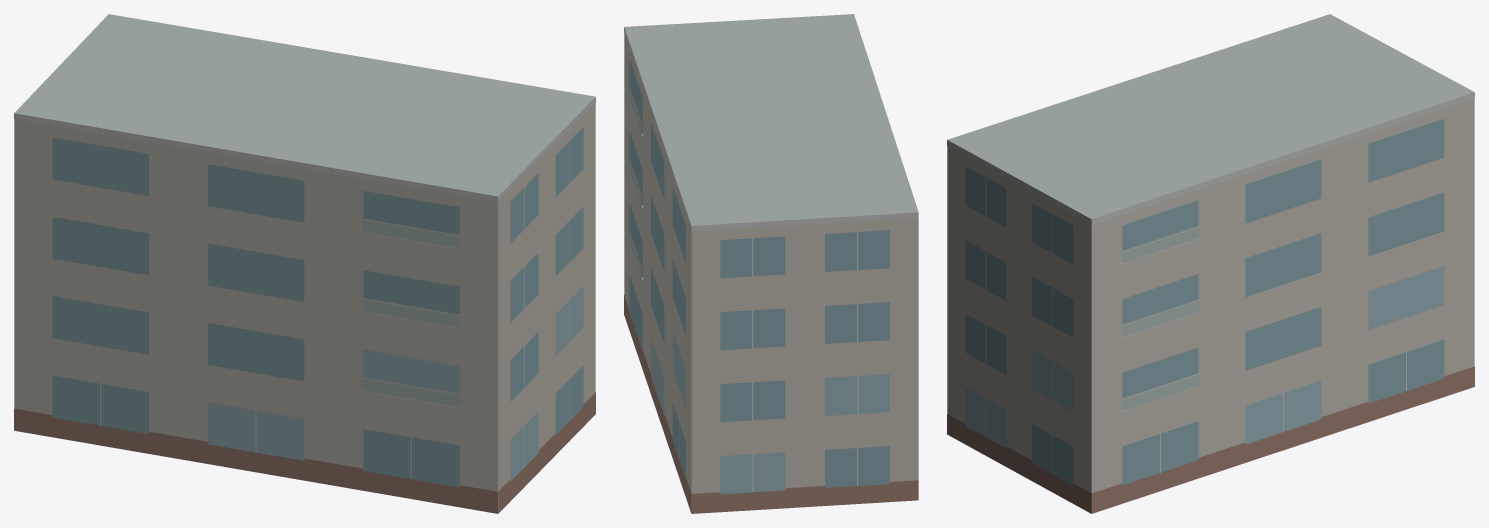
File: survey-upis-32951360.glb
3 views of the same model, side by side, from view 1: azimuth 30°, elevation 25°; view 2: azimuth 150°, elevation 25°; view 3: azimuth 270°, elevation 25° (orthographic). The views are drawn at different scales.
Parts seen in each view (by area): view 1: survey-upis-32951360.tmp; view 2: survey-upis-32951360.tmp; view 3: survey-upis-32951360.tmp.
Boxes of the visible parts, bbox=[...] form: survey-upis-32951360.tmp: bbox=[14, 14, 595, 513]; survey-upis-32951360.tmp: bbox=[624, 14, 918, 513]; survey-upis-32951360.tmp: bbox=[947, 14, 1474, 513].
Bounding box in the file's own units: 18.83 × 12.6 × 20.46.
